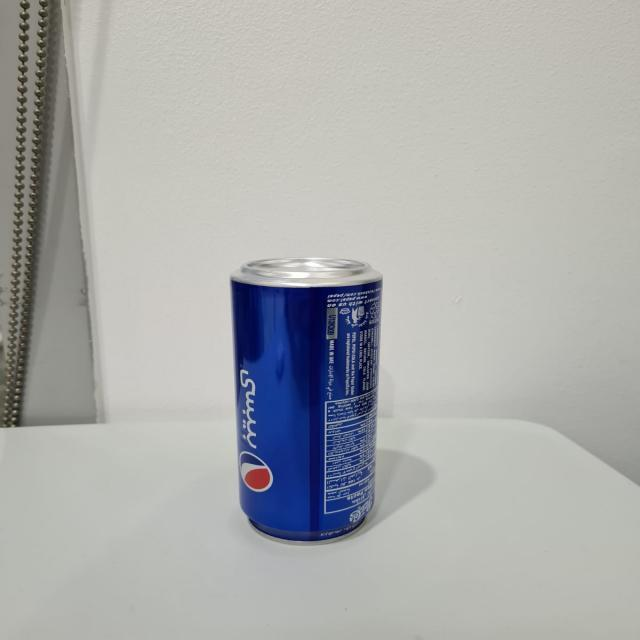can: (219, 250, 390, 544)
